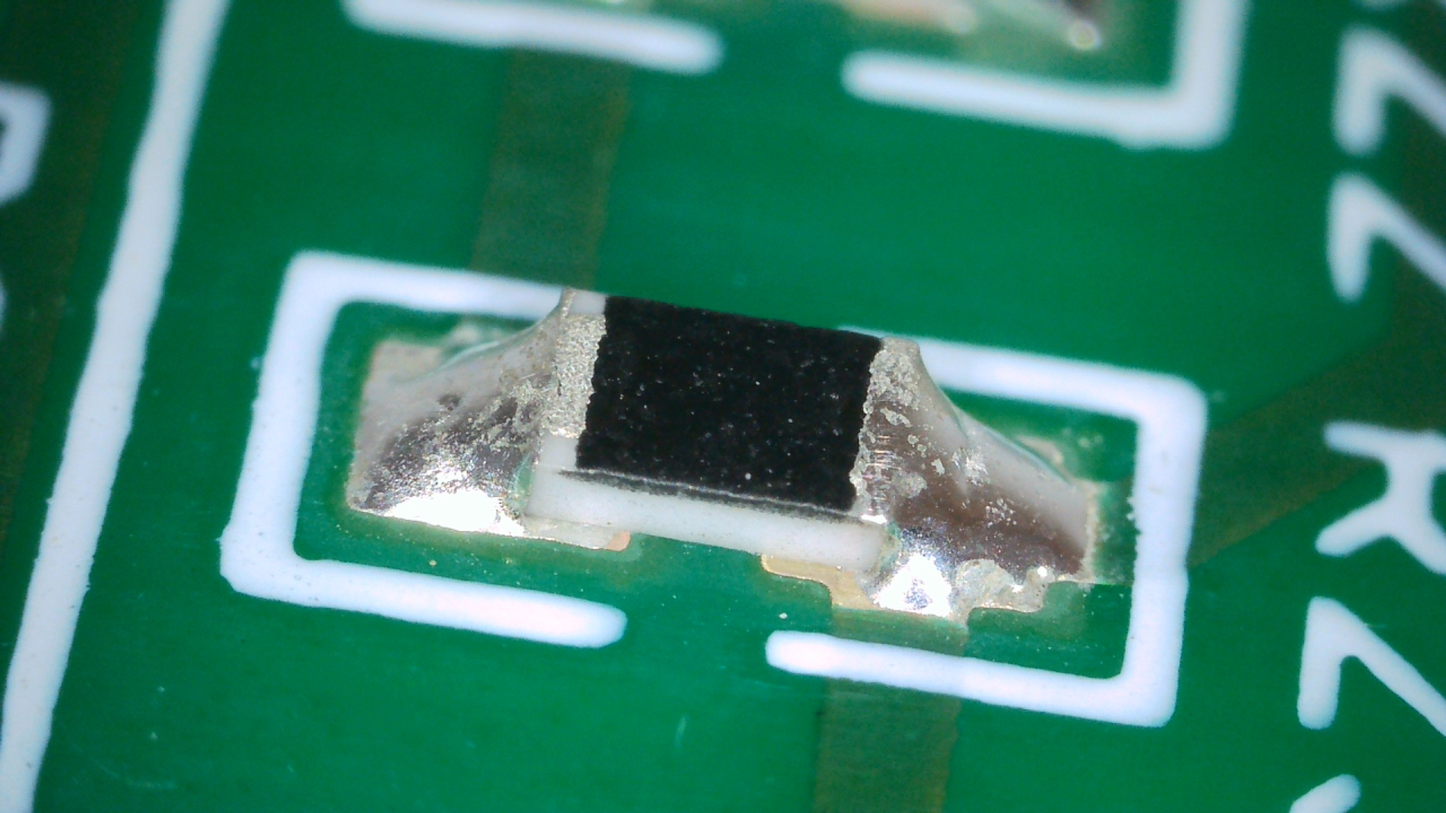OK: (847, 336, 1090, 629), (346, 289, 606, 538)
